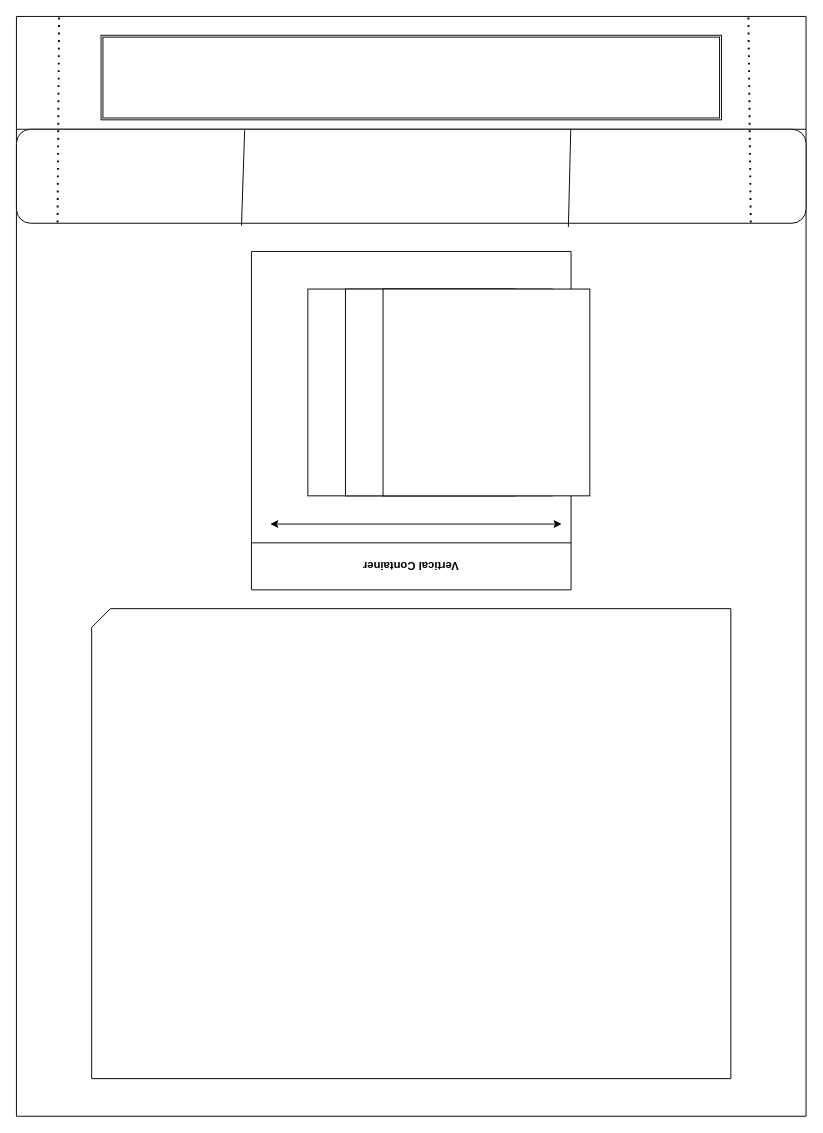
This 823x1133 diagram has some shape labels left out. Each missing label, with the centre of its shape:
"nav" goes at pixel 411 175.
"titel" goes at pixel 410 77.
